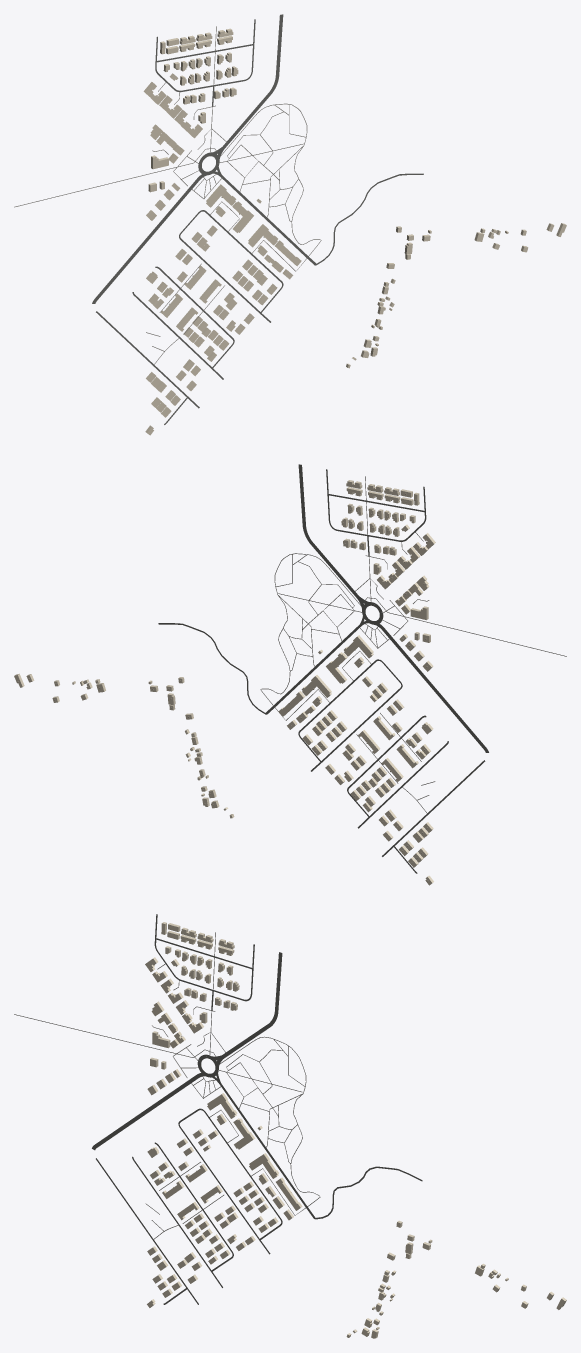
The model's file is historic-palestine-09_16_3505_3106.glb.
3 views of the same model, one above another, from view 1: azimuth 30°, elevation 25°; view 2: azimuth 150°, elevation 25°; view 3: azimuth 330°, elevation 25° (orthographic).
Visible parts, largest first — view 1: Road הרבי מלובאוויטש; view 2: Road הרבי מלובאוויטש; view 3: Road הרבי מלובאוויטש.
Part boxes in pixels (x1,y1,x2,y2): Road הרבי מלובאוויטש: (92, 171, 207, 303); Road הרבי מלובאוויטש: (374, 621, 488, 752); Road הרבי מלובאוויטש: (92, 1072, 206, 1150).
Size of the model in its own units: 1266 by 869 by 8.7.
